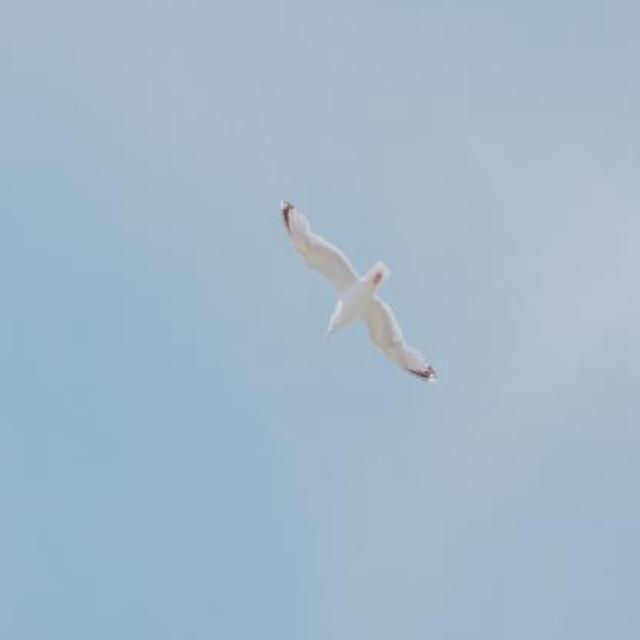bird: (280, 199, 437, 386)
